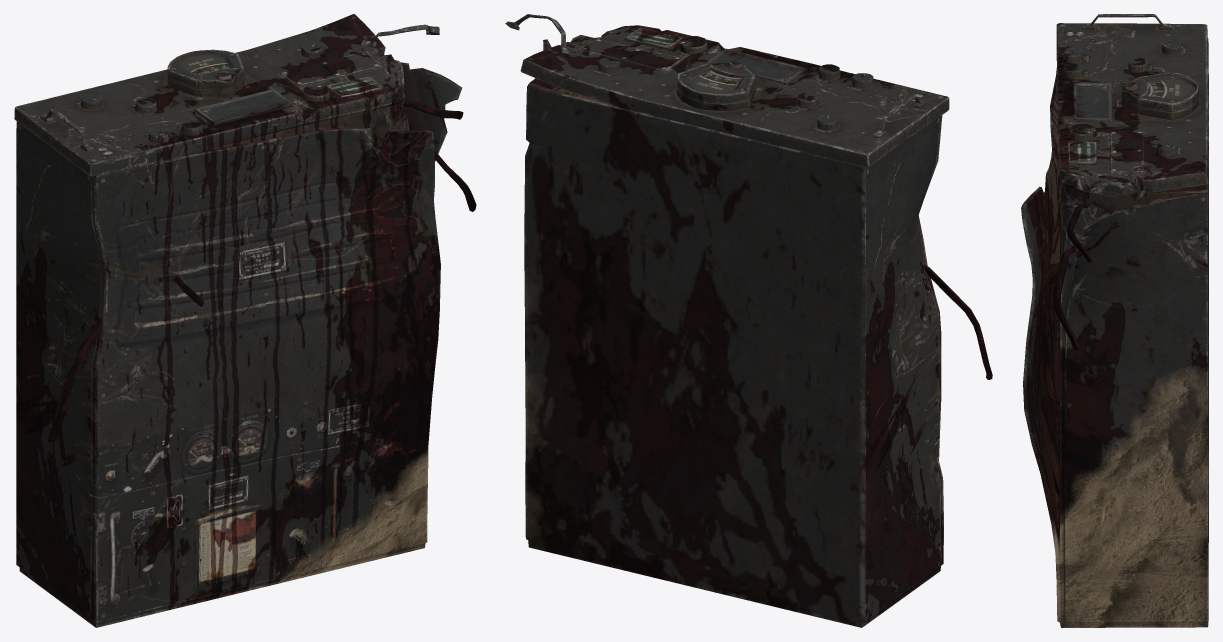
File: plane_wreckage_radio.dae
3 views of the same model, side by side, from view 1: azimuth 30°, elevation 25°; view 2: azimuth 150°, elevation 25°; view 3: azimuth 270°, elevation 25° (orthographic). The views are drawn at different scales.
Visible parts, largest first — view 1: plane_wreckage_radio_ncl1_2, button_frame, _cable2; view 2: plane_wreckage_radio_ncl1_2, button_frame, _cable2; view 3: plane_wreckage_radio_ncl1_2, button_frame, _cable1, _cable3, plane_wreckage_radio_handler.
Part boxes in pixels (bbox=[...]): plane_wreckage_radio_ncl1_2: bbox=[14, 14, 461, 627]; button_frame: bbox=[194, 89, 294, 125]; _cable2: bbox=[47, 318, 102, 442]; plane_wreckage_radio_ncl1_2: bbox=[520, 25, 949, 627]; button_frame: bbox=[705, 48, 806, 84]; _cable2: bbox=[923, 264, 992, 379]; plane_wreckage_radio_ncl1_2: bbox=[1021, 14, 1208, 627]; button_frame: bbox=[1073, 82, 1112, 122]; _cable1: bbox=[1053, 243, 1081, 349]; _cable3: bbox=[1066, 205, 1092, 262]; plane_wreckage_radio_handler: bbox=[1129, 164, 1161, 201].
Size of the model in its own units: 59.78 by 63.65 by 23.18.
